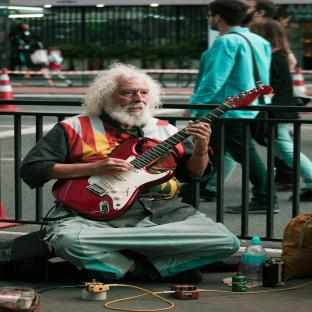Human: (46, 179, 240, 284), (19, 65, 178, 189), (162, 123, 213, 183), (52, 204, 69, 217)
